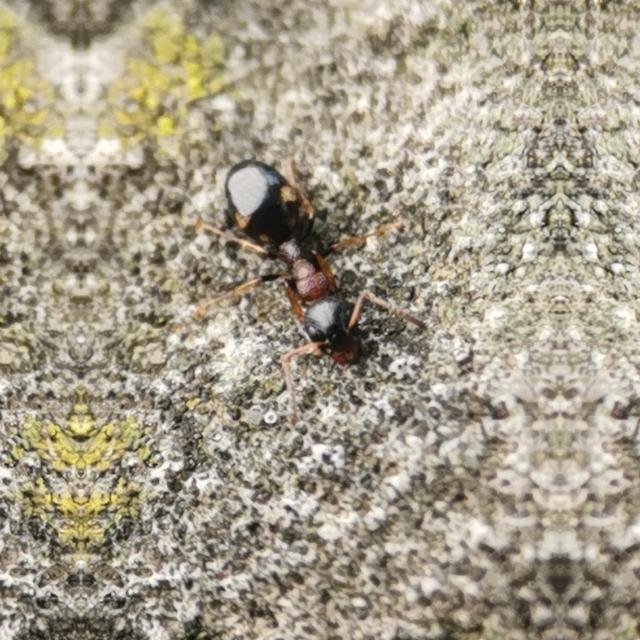Dolichoderus: (186, 92, 432, 420)
